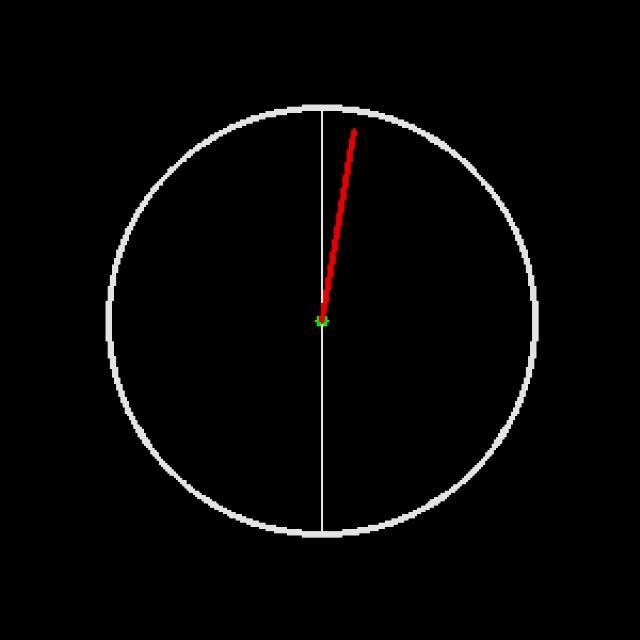Needle_Tip: (329, 119, 375, 161)
Needle_base: (298, 284, 360, 357)
